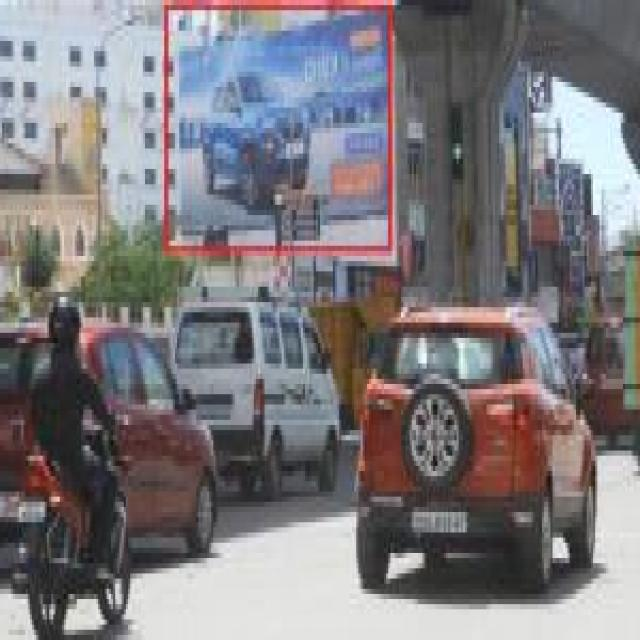Werbetafel frei: (166, 5, 389, 251)
